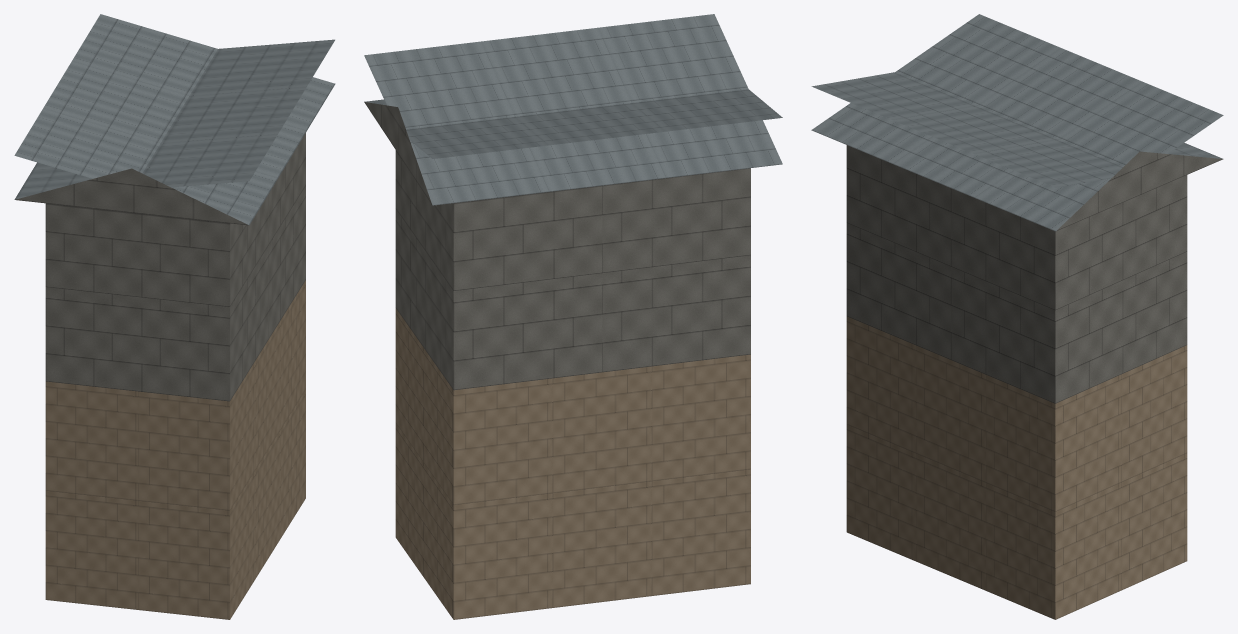
The model's file is bld_c0_9_491.gltf.
3 renders of one model, left to right at view 1: azimuth 30°, elevation 25°; view 2: azimuth 150°, elevation 25°; view 3: azimuth 270°, elevation 25°, orthographic. The views are drawn at different scales.
Visible parts, largest first — view 1: bld_c0_9_491; view 2: bld_c0_9_491; view 3: bld_c0_9_491.
Part boxes in pixels (x1,y1,x2,y2): bld_c0_9_491: (14, 14, 335, 619); bld_c0_9_491: (364, 14, 782, 619); bld_c0_9_491: (811, 14, 1223, 619).
Bounding box in the file's own units: 8.51 × 10.2 × 8.54.
Materials: 4 (4 with a texture image).
